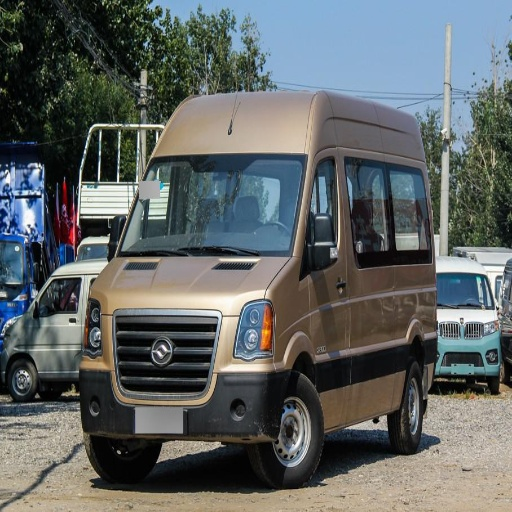back_glass: (363, 322, 402, 410), (342, 151, 370, 226), (391, 165, 423, 212)
back_right_light: (108, 314, 286, 443), (79, 354, 97, 396)
front_bumper: (119, 152, 305, 255)
front_glass: (304, 148, 375, 426)
front_left_door: (231, 298, 272, 363)
front_right_light: (91, 256, 287, 314)
tailgate: (379, 265, 473, 364), (383, 108, 411, 140)
trunk: (252, 376, 319, 485), (85, 400, 159, 488), (390, 364, 423, 453)
